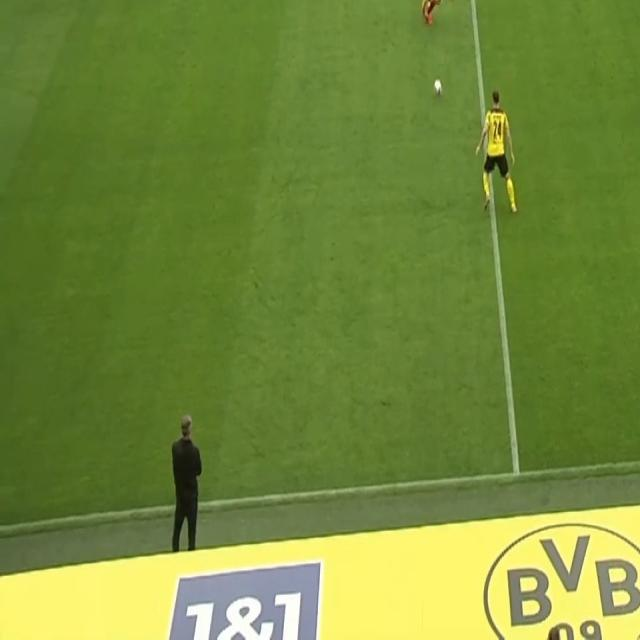ball: (432, 78, 444, 100)
